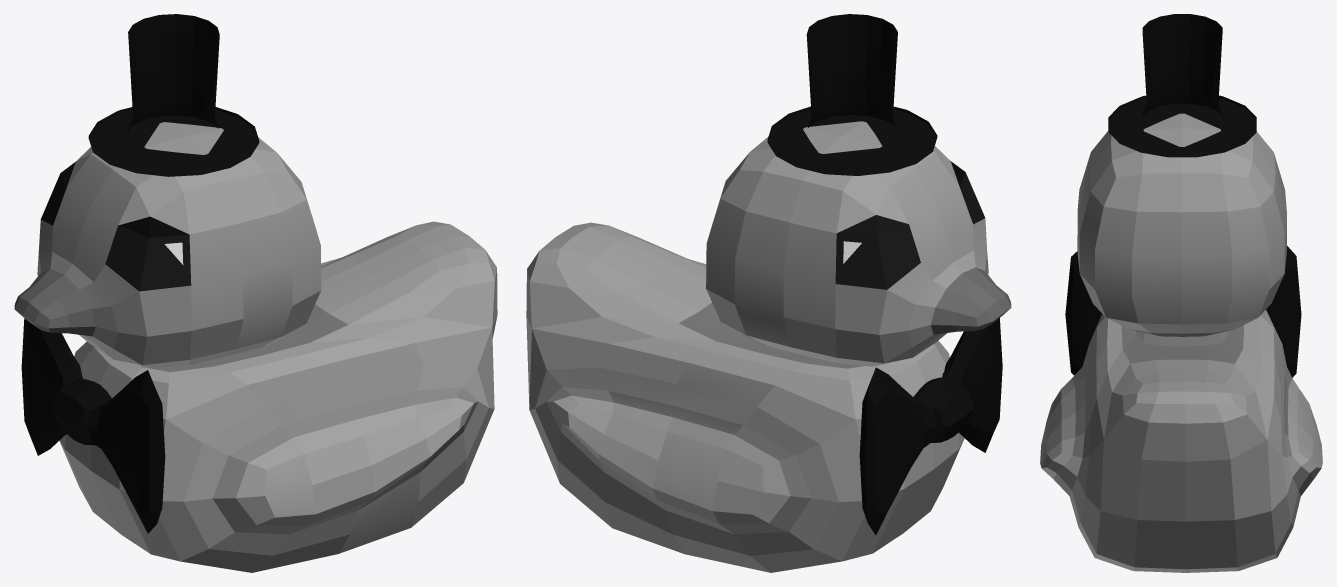
Rendered from MrDuckersonModel.fbx.
The picture shows the model from 3 angles, left to right: view 1: azimuth 30°, elevation 25°; view 2: azimuth 150°, elevation 25°; view 3: azimuth 270°, elevation 25°; orthographic projection. The views are drawn at different scales.
Visible parts, largest first — view 1: MrDuckersonModel; view 2: MrDuckersonModel; view 3: MrDuckersonModel.
Part boxes in pixels (bbox=[...]): MrDuckersonModel: bbox=[14, 14, 497, 572]; MrDuckersonModel: bbox=[526, 14, 1011, 572]; MrDuckersonModel: bbox=[1040, 14, 1322, 572].
Bounding box in the file's own units: 26.16 × 28.98 × 15.82.
